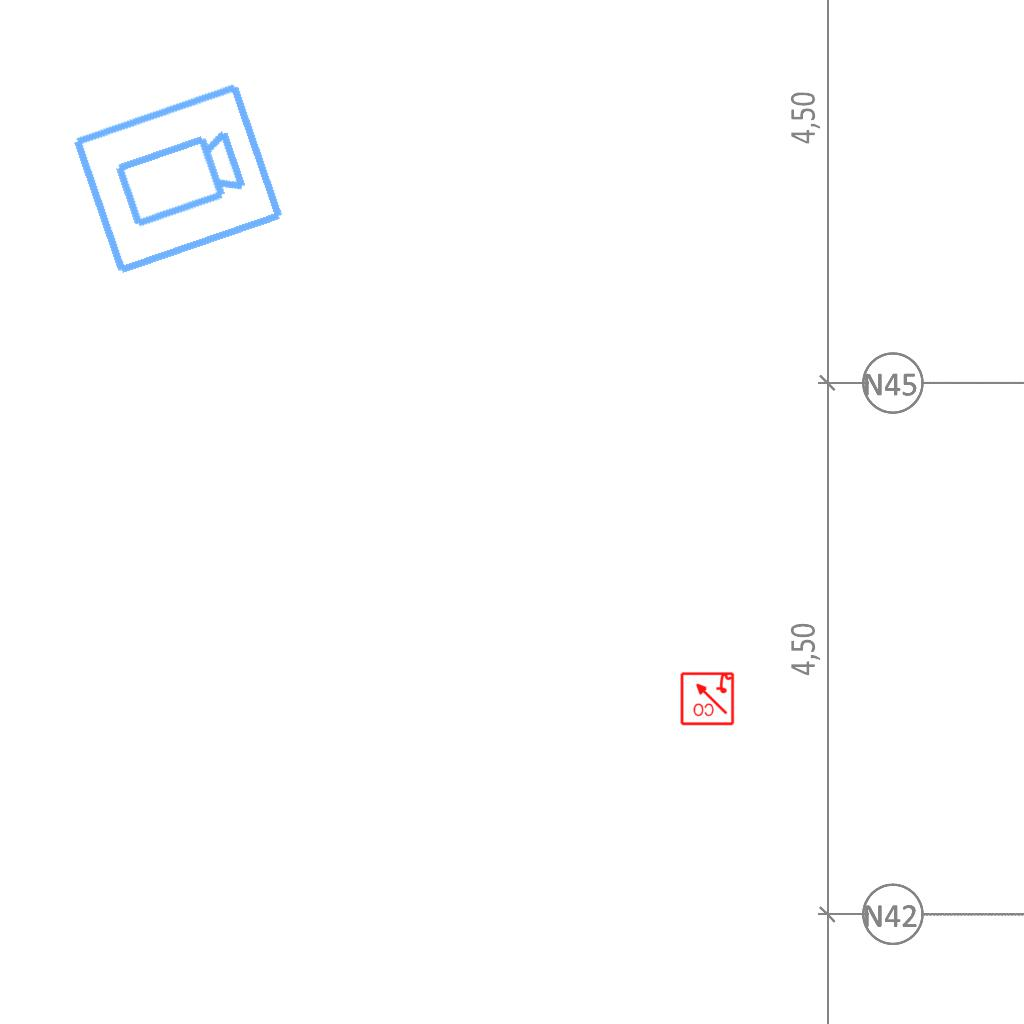KFO_Kamera_mit_Festobjektiv: (66, 77, 290, 283)
ROA_Rauchmelder_optisch_mit_Signalgeber_(Sockelsirene): (679, 670, 735, 726)
